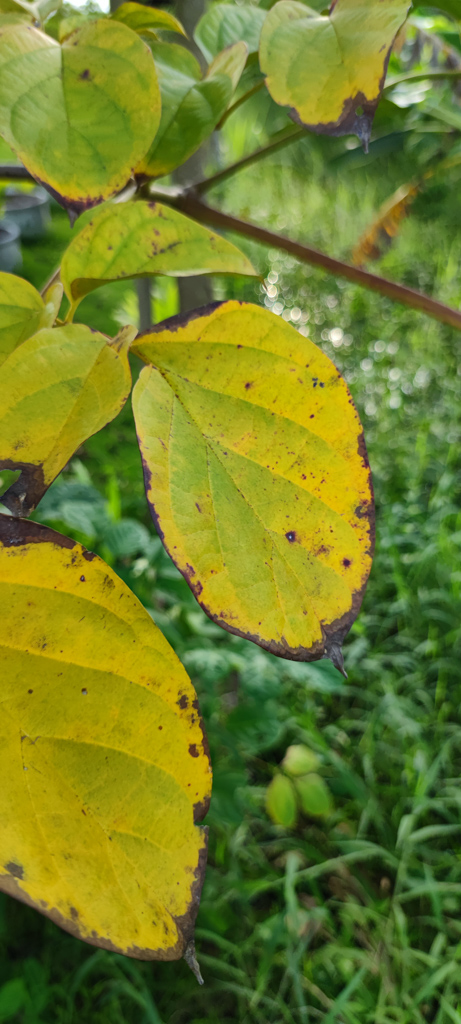Pepper yellow leaf: (123, 297, 389, 669), (7, 531, 218, 962), (5, 17, 167, 225), (257, 7, 418, 157), (4, 327, 136, 507), (60, 200, 270, 301)
